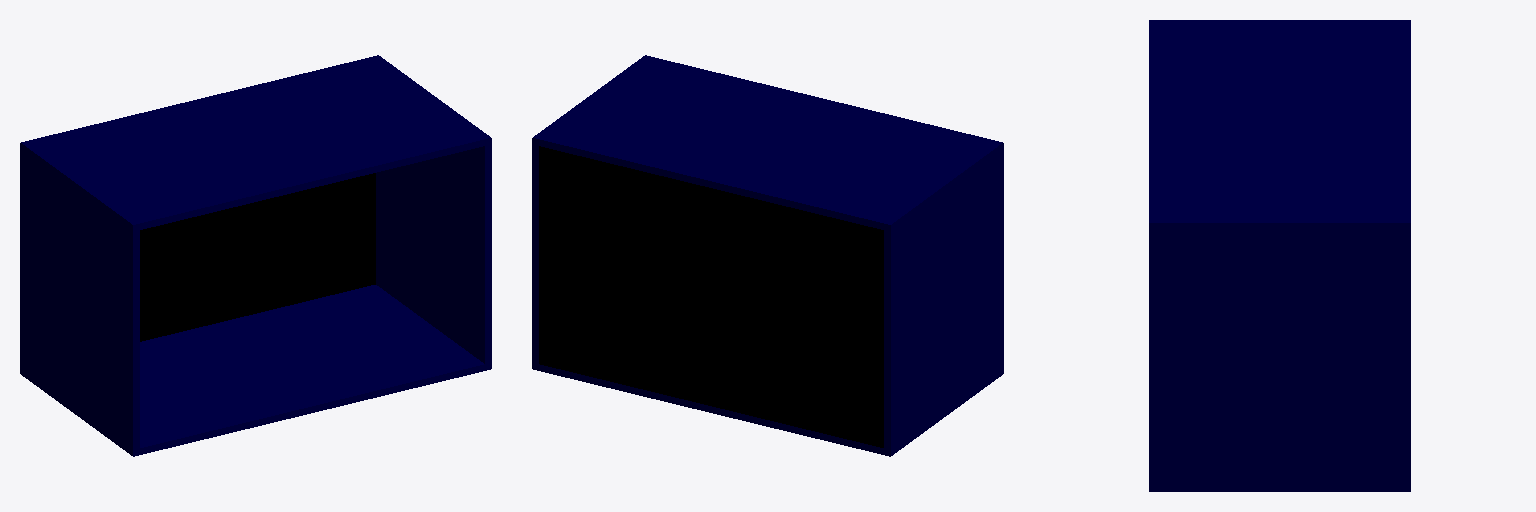
URDF robot description (pallet_rack):
<?xml version="1.0"?>
<robot name="pallet_rack">

  <material name="rack_blue"><color rgba="0.0 0.2 0.6 1.0"/></material>
  <material name="rack_orange"><color rgba="1.0 0.4 0.0 1.0"/></material>

  <link name="rack_base">
    
    <inertial>
      <mass value="0.5"/>
      <origin xyz="0 0 0.1" rpy="0 0 0"/>
      <inertia ixx="0.1" ixy="0.0" ixz="0.0" iyy="0.1" iyz="0.0" izz="0.1"/>
    </inertial>

    <visual><origin xyz="0 0 0.0" rpy="0 0 0"/><geometry><mesh filename="tote_bottom.dae"/></geometry></visual>
    <collision><origin xyz="0 0 0.0" rpy="0 0 0"/><geometry><mesh filename="tote_bottom.dae"/></geometry></collision>

    <visual><origin xyz="0 0 0" rpy="0 0 0"/><geometry><mesh filename="tote_front.dae"/></geometry></visual>
    <collision><origin xyz="0 0 0" rpy="0 0 0"/><geometry><mesh filename="tote_front.dae"/></geometry></collision>

    <visual><origin xyz="0 0 0" rpy="0 0 0"/><geometry><mesh filename="tote_back.dae"/></geometry></visual>
    <collision><origin xyz="0 0 0" rpy="0 0 0"/><geometry><mesh filename="tote_back.dae"/></geometry></collision>

    <visual><origin xyz="0 0 0" rpy="0 0 0"/><geometry><mesh filename="tote_left.dae"/></geometry></visual>
    <collision><origin xyz="0 0 0" rpy="0 0 0"/><geometry><mesh filename="tote_left.dae"/></geometry></collision>

    <visual><origin xyz="0 0 0" rpy="0 0 0"/><geometry><mesh filename="tote_right.dae"/></geometry></visual>
    <collision><origin xyz="0 0 0" rpy="0 0 0"/><geometry><mesh filename="tote_right.dae"/></geometry></collision>

  </link>
</robot>

--- Render facts (derived) ---
Views: 3 orthographic renders of the robot side by side, from view 1: azimuth 30°, elevation 25°; view 2: azimuth 150°, elevation 25°; view 3: azimuth 270°, elevation 25°.
Robot: pallet_rack — 1 links, 0 joints (none); root link rack_base; default pose: all joints at 0.
Links seen in each view (by area): view 1: rack_base; view 2: rack_base; view 3: rack_base.
Boxes of the visible links, left/top/right/bottom form: rack_base: left=20, top=55, right=491, bottom=456; rack_base: left=532, top=55, right=1003, bottom=456; rack_base: left=1149, top=20, right=1410, bottom=491.
Bounding box of the posed robot: 0.55 × 0.3 × 0.34 m (x, y, z).
Meshes: 5 distinct files referenced, 5 mesh visuals loaded (5 Collada DAE).
